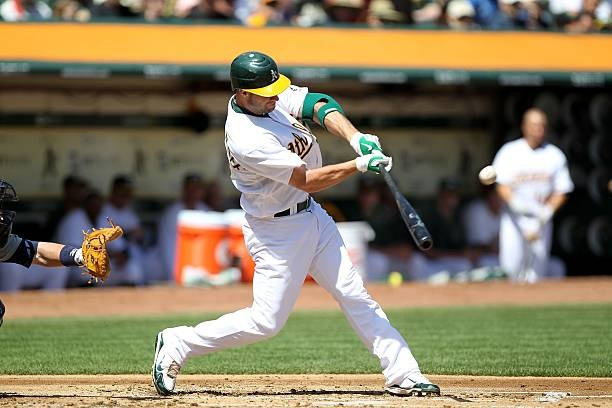bita: (377, 165, 435, 257)
